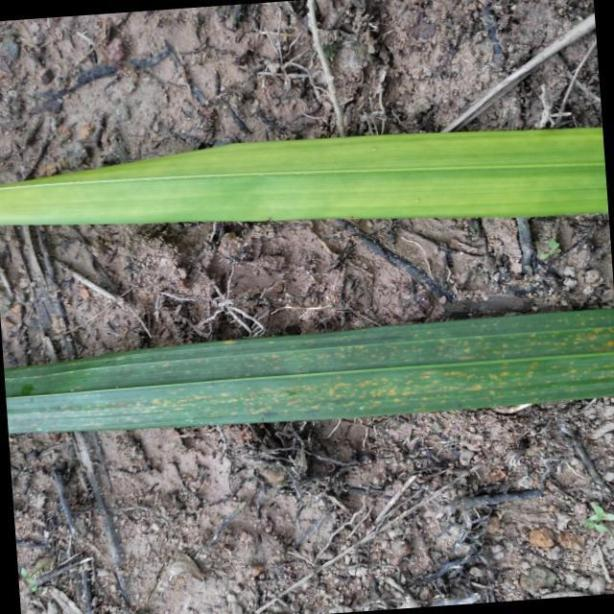nitrogen: (3, 299, 614, 438), (0, 122, 614, 234)
